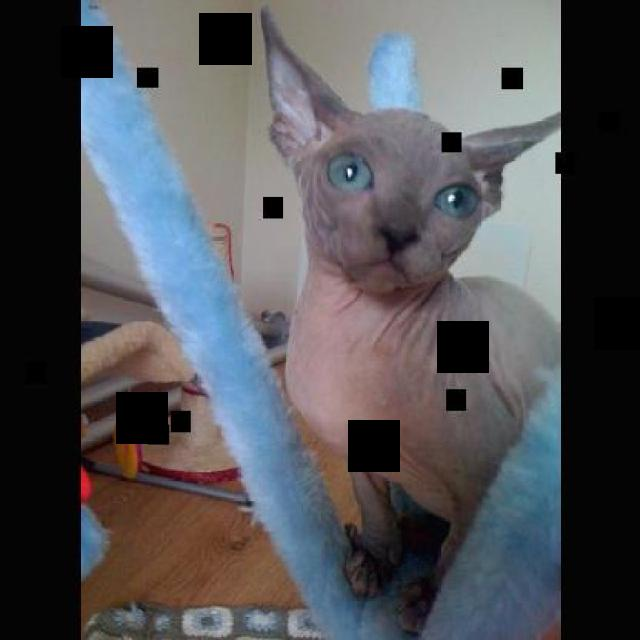unauthorized: (255, 1, 560, 637)
